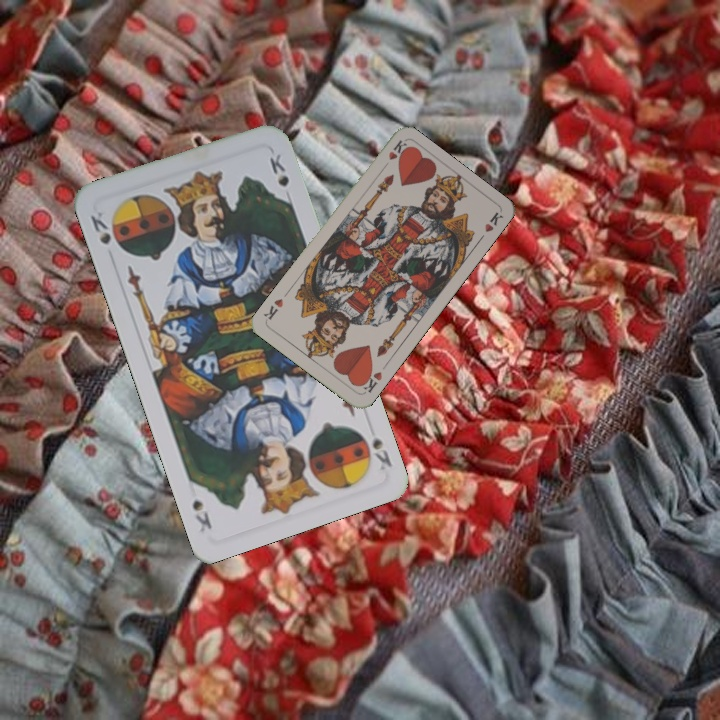HK: (377, 136, 409, 173), (356, 366, 385, 396)
SK: (355, 426, 395, 473), (86, 207, 114, 247)
